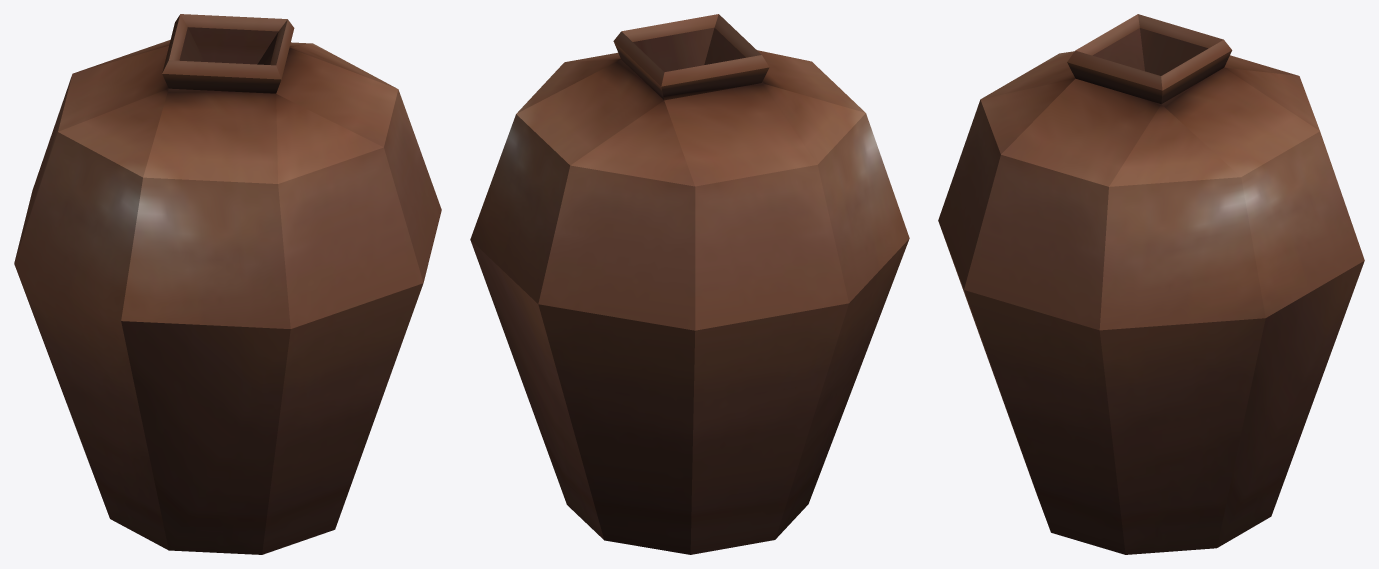
Rendered from guanzi01.FBX.
The picture shows the model from 3 angles, left to right: view 1: azimuth 30°, elevation 25°; view 2: azimuth 150°, elevation 25°; view 3: azimuth 270°, elevation 25°; orthographic projection.
Parts seen in each view (by area): view 1: Object005; view 2: Object005; view 3: Object005.
Part boxes in pixels (bbox=[...]): Object005: bbox=[14, 14, 441, 554]; Object005: bbox=[470, 14, 909, 554]; Object005: bbox=[938, 14, 1364, 554].
Size of the model in its own units: 13.61 by 16.24 by 13.61.
